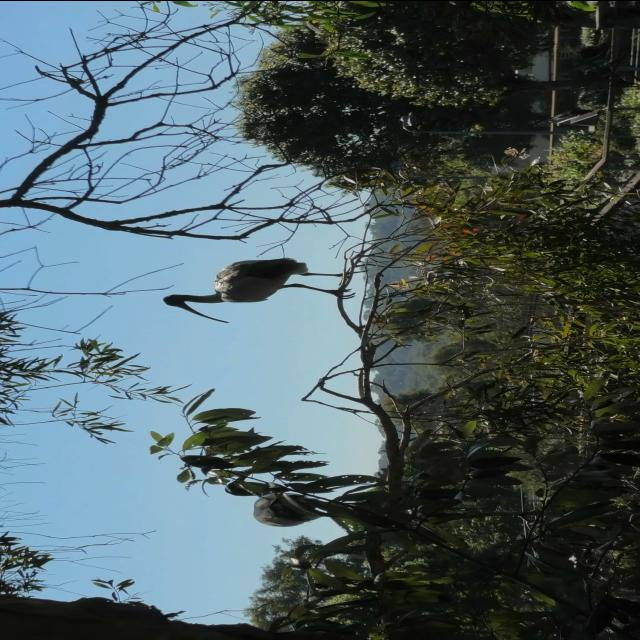Birds-Ibis: (158, 256, 368, 324)
